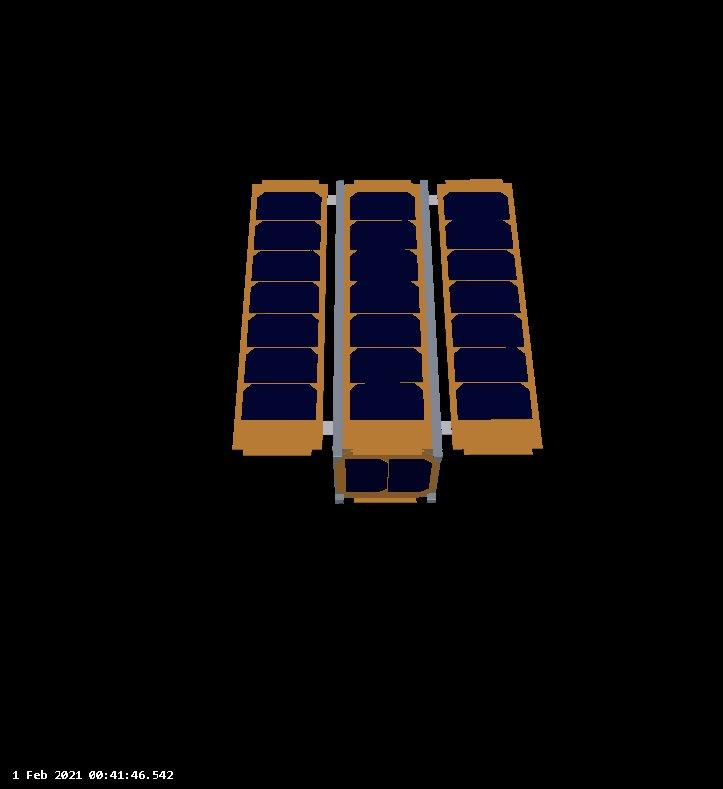solar: (338, 180, 438, 505), (438, 176, 543, 454), (237, 177, 330, 460)
